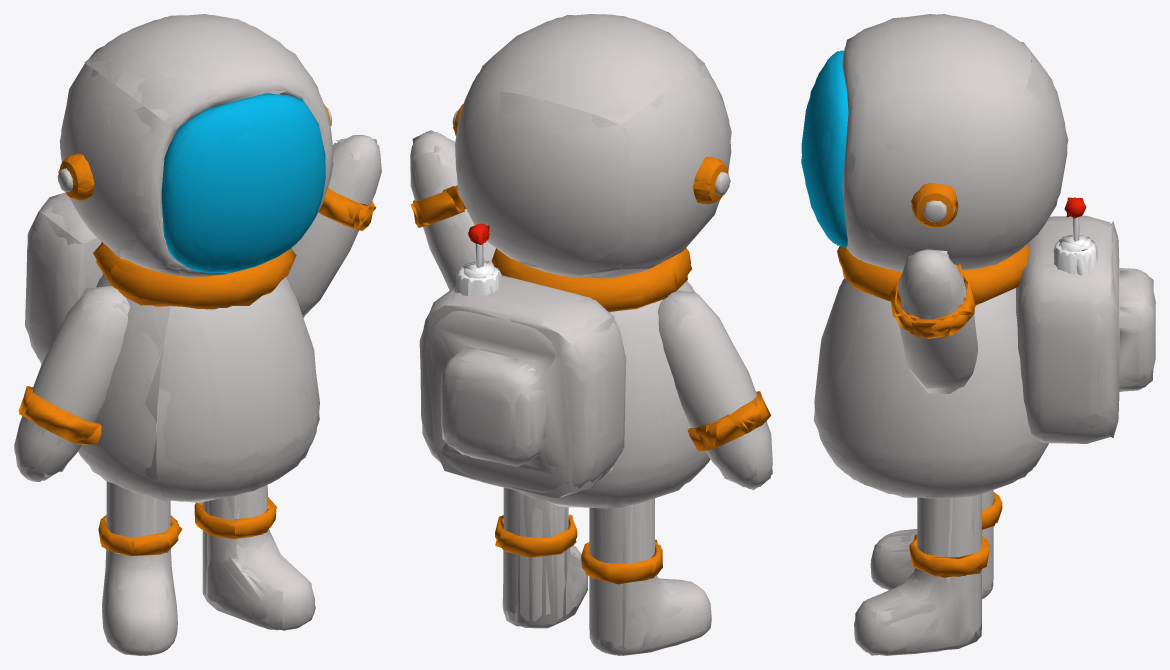
The model's file is cute_astronaut-decimated.glb.
3 views of the same model, side by side, from view 1: azimuth 30°, elevation 25°; view 2: azimuth 150°, elevation 25°; view 3: azimuth 270°, elevation 25° (orthographic).
Visible parts, largest first — view 1: Astronauta.gles.002, Astronauta.gles.003, Astronauta.gles.004; view 2: Astronauta.gles.002, Astronauta.gles.003, Astronauta.gles.004; view 3: Astronauta.gles.002, Astronauta.gles.003, Astronauta.gles.004.
Boxes of the visible parts, x1,y1,x2,y2 form: Astronauta.gles.002: (14,15,381,655); Astronauta.gles.003: (14,14,380,655); Astronauta.gles.004: (19,15,380,655); Astronauta.gles.002: (410,14,771,655); Astronauta.gles.003: (410,15,772,655); Astronauta.gles.004: (410,15,772,655); Astronauta.gles.002: (801,14,1155,655); Astronauta.gles.003: (801,14,1155,655); Astronauta.gles.004: (807,14,1153,655).
Size of the model in its own units: 1.58 by 2.51 by 1.37.
